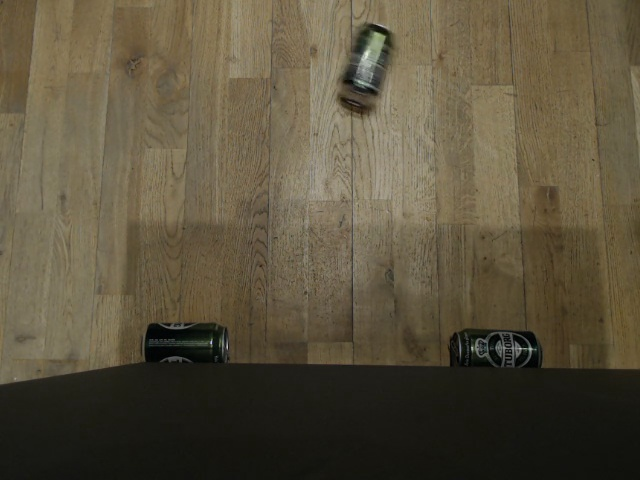beer: (335, 22, 392, 111), (447, 326, 544, 368), (138, 318, 228, 362)
